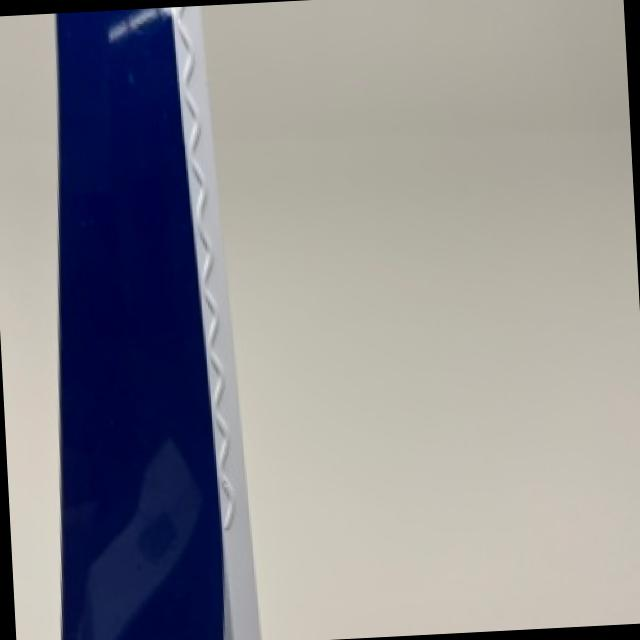healthy: (60, 6, 260, 640)
